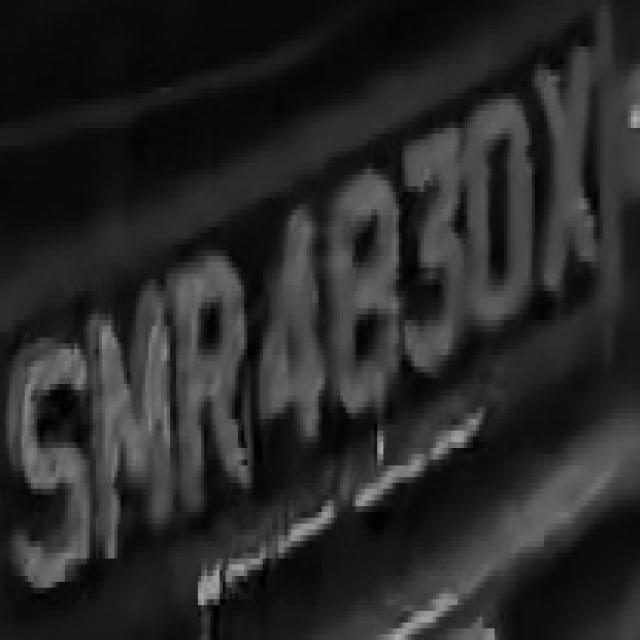0: (467, 81, 541, 355)
3: (393, 111, 470, 378)
4: (250, 186, 337, 466)
8: (328, 157, 411, 425)
M: (90, 291, 173, 576)
R: (167, 238, 253, 530)
S: (9, 320, 93, 623)
X: (538, 46, 609, 308)
